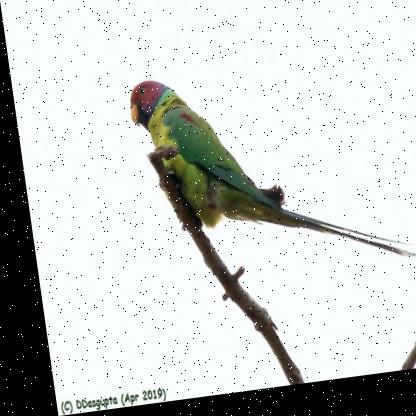Burung: (122, 58, 407, 292)
